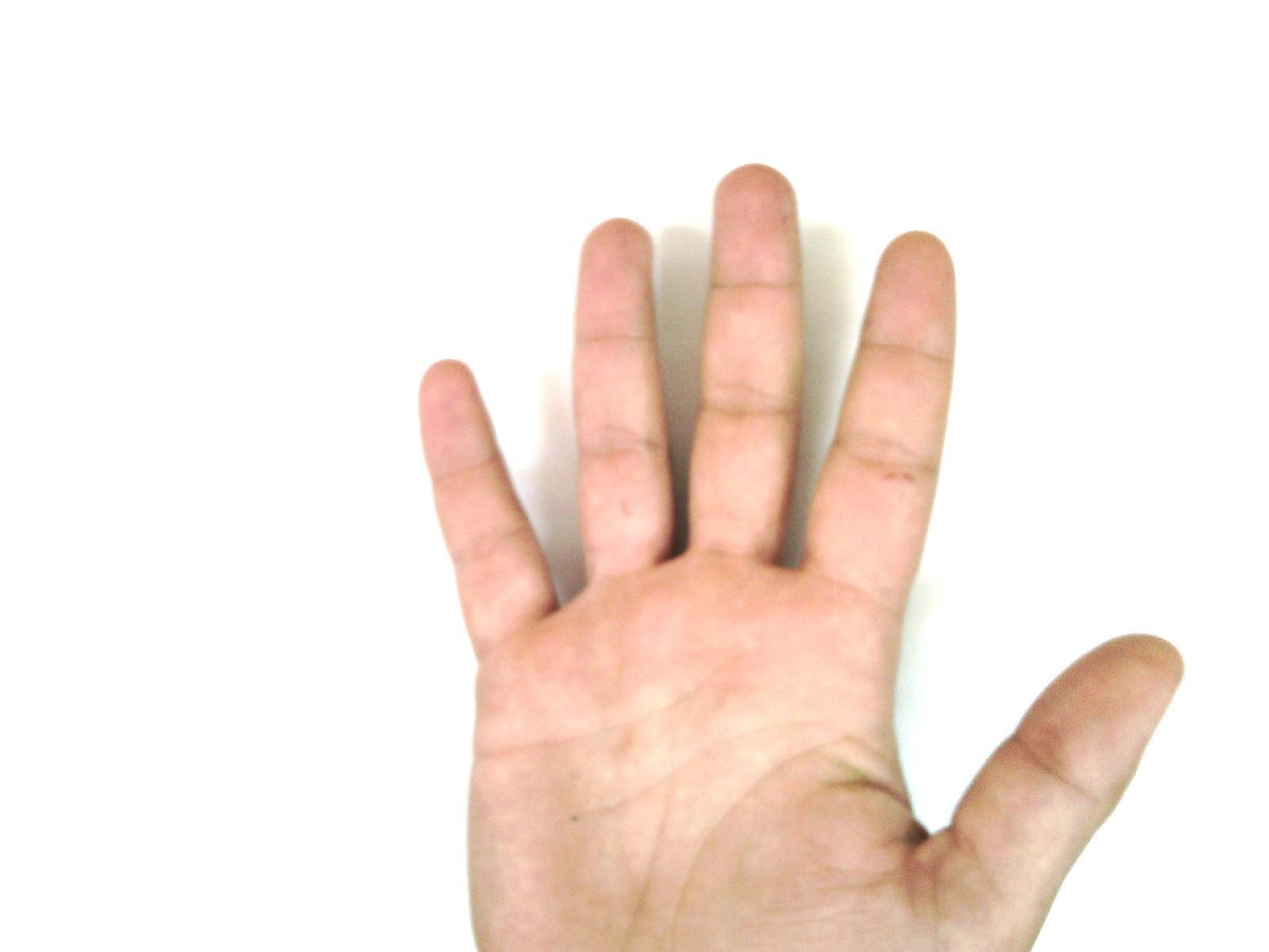open_palm: (414, 162, 1186, 951)
